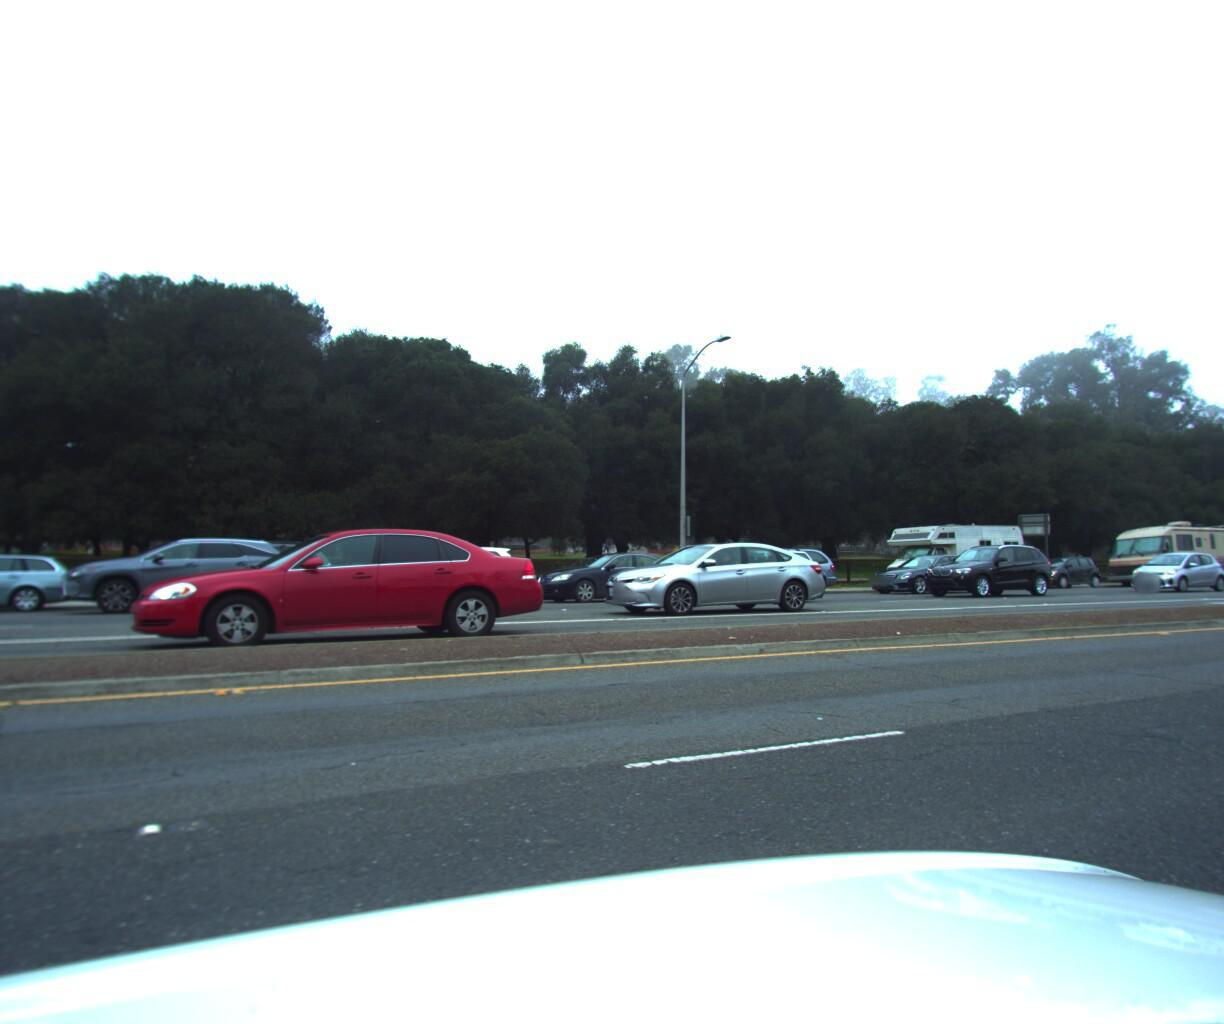car: (121, 521, 564, 660), (569, 533, 834, 620), (53, 534, 306, 619), (122, 538, 343, 620), (366, 540, 532, 608), (650, 542, 827, 605), (521, 543, 684, 604), (699, 543, 844, 601), (912, 539, 1058, 596), (517, 549, 671, 602), (0, 549, 82, 627), (862, 546, 1002, 591), (1114, 544, 1224, 588), (1019, 551, 1101, 588), (1211, 552, 1224, 584)
other_vehicle: (874, 515, 1032, 597), (1092, 513, 1224, 590)
